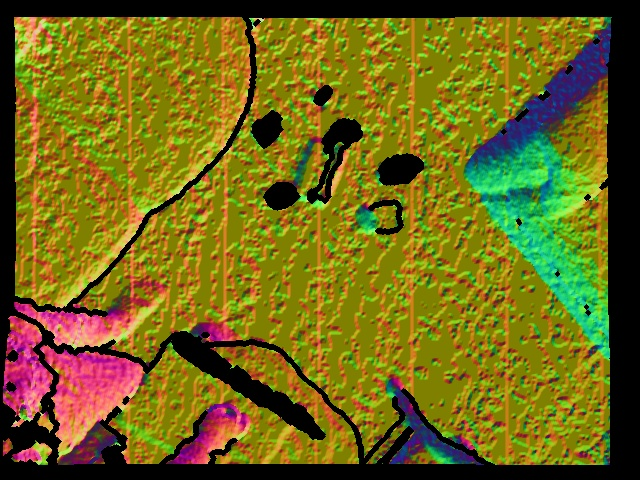station: (291, 136, 346, 211)
